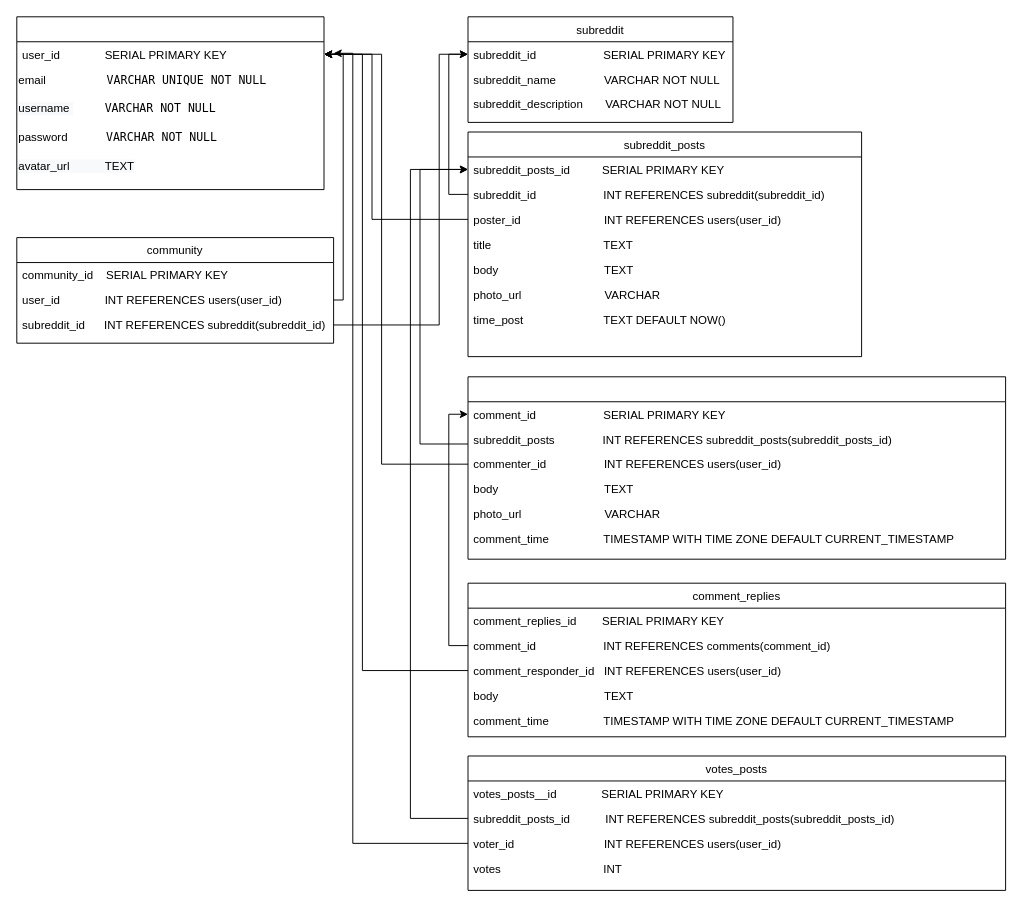
Image size: 1022x907. Some labels were removed from this diagram. The box of each missing label's shape, as (x1, y1, x2, y2) in pixels:
comments: (467, 376, 1006, 559)
users: (16, 16, 324, 190)
